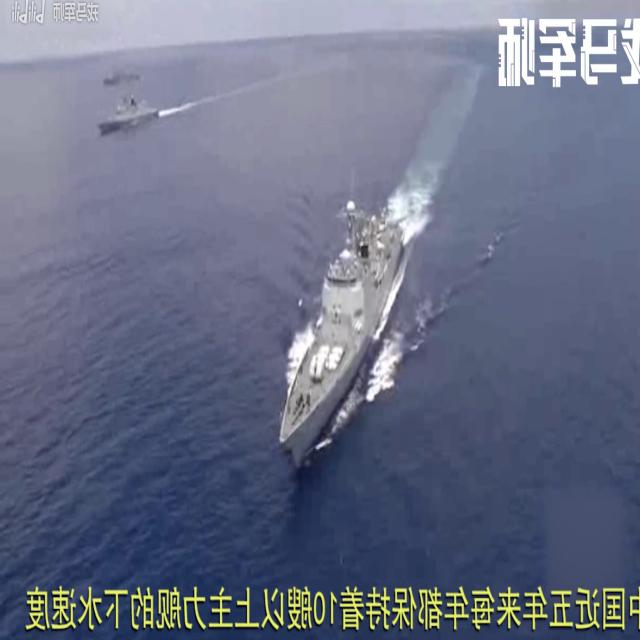navalvessels: (279, 198, 405, 468), (100, 86, 163, 133), (103, 61, 142, 87)
